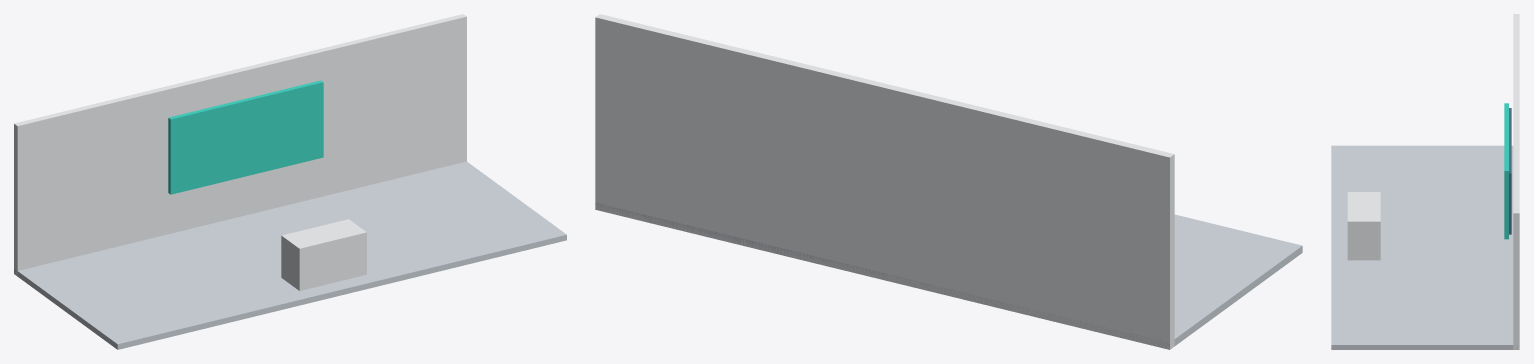
3 views of the same model, side by side, from view 1: azimuth 30°, elevation 25°; view 2: azimuth 150°, elevation 25°; view 3: azimuth 270°, elevation 25° (orthographic). The views are drawn at different scales.
Parts seen in each view (by area): view 1: Exhibition Booth Concept; view 2: Exhibition Booth Concept; view 3: Exhibition Booth Concept.
Boxes of the visible parts, x1,y1,x2,y2 form: Exhibition Booth Concept: (14,14,566,349); Exhibition Booth Concept: (595,14,1302,349); Exhibition Booth Concept: (1331,14,1519,349).
Bounding box in the file's own units: 10 × 3.2 × 4.
